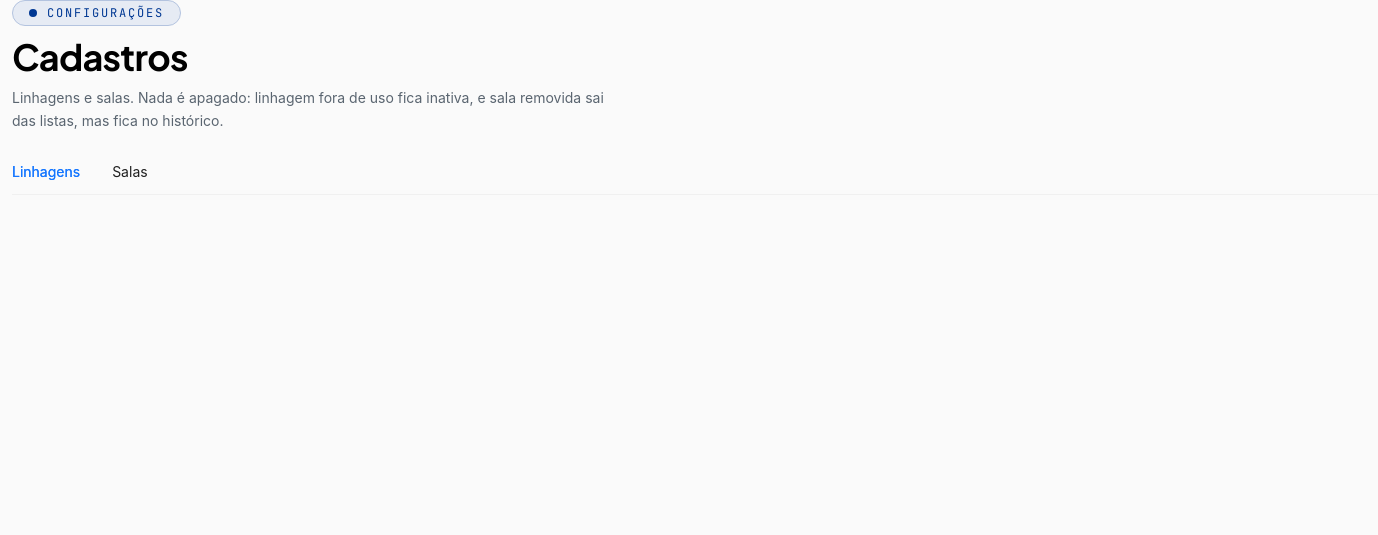
Test case: salas no celular › cada sala é um cartão, com as ações em botões
The image size is (1378, 535).
Later steps or results of the test are not shown.
Click the tab "Salas": (130, 172) [112, 161, 148, 183]
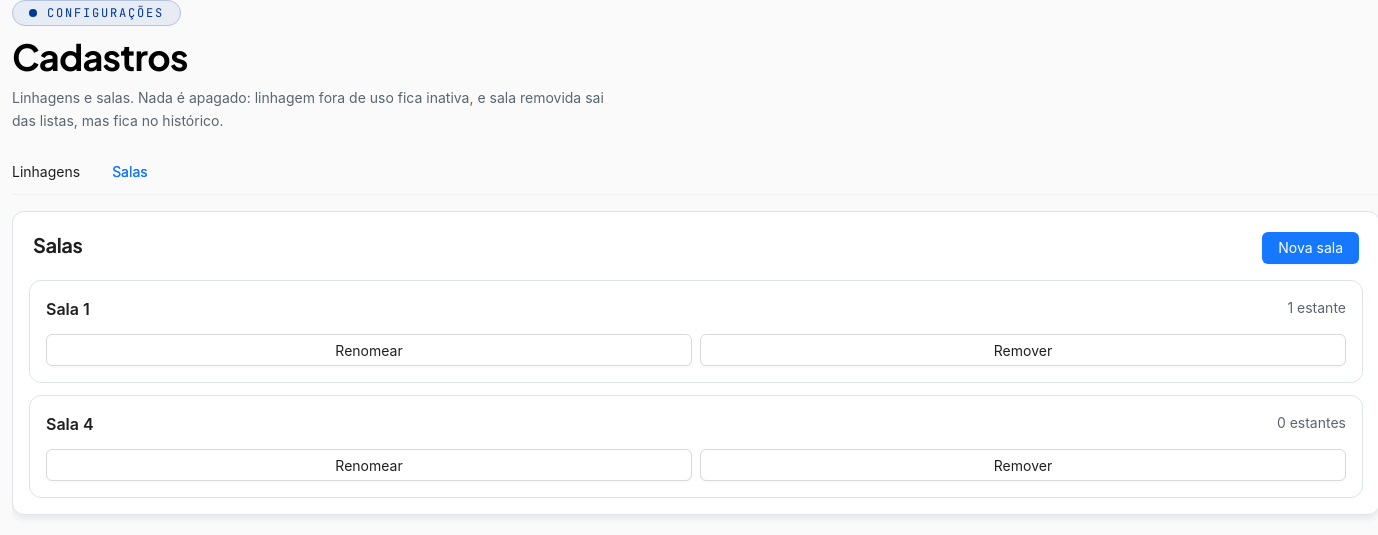
Expected: the text "0 estantes" is shown, [1277, 414, 1346, 431]
